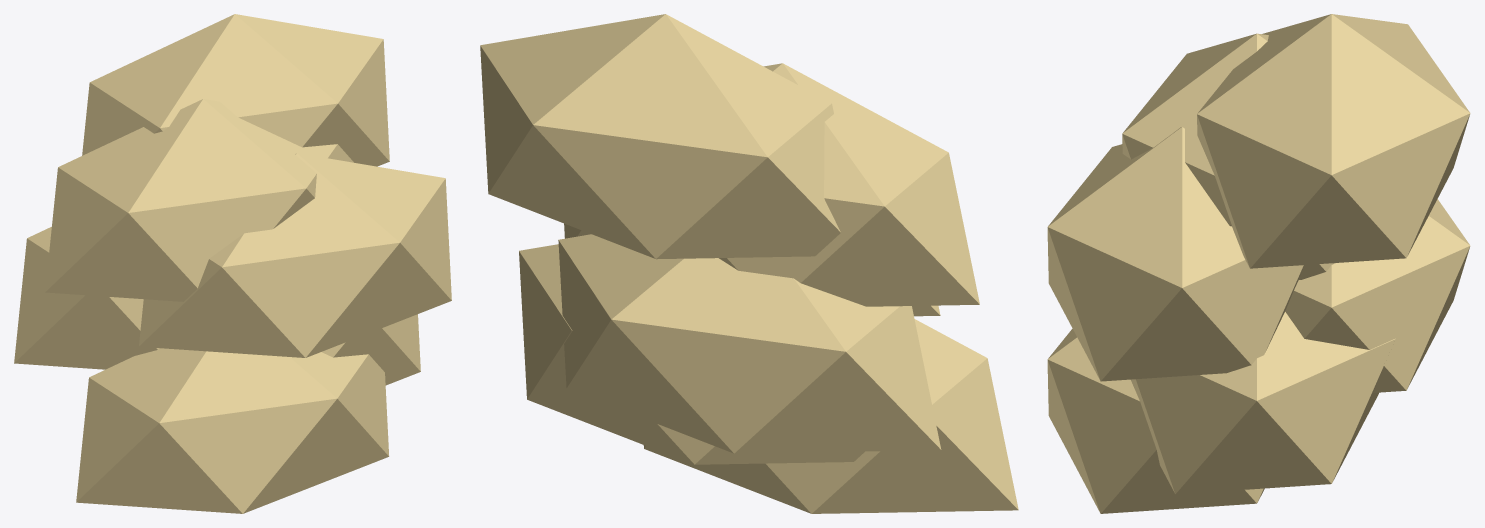
File: item_043_flour_l.glb
3 renders of one model, left to right at view 1: azimuth 30°, elevation 25°; view 2: azimuth 150°, elevation 25°; view 3: azimuth 270°, elevation 25°, orthographic. The views are drawn at different scales.
Parts seen in each view (by area): view 1: item_043_flour_l; view 2: item_043_flour_l; view 3: item_043_flour_l.
Part boxes in pixels (left/top/right/bottom): item_043_flour_l: left=14, top=14, right=451, bottom=513; item_043_flour_l: left=480, top=14, right=1018, bottom=513; item_043_flour_l: left=1047, top=14, right=1470, bottom=513.
Bounding box in the file's own units: 0.4127 × 0.4539 × 0.3397.
